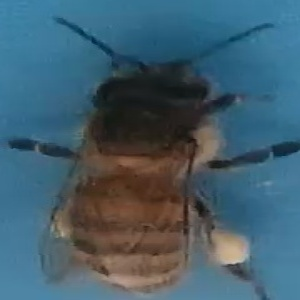bee: (20, 16, 287, 299)
